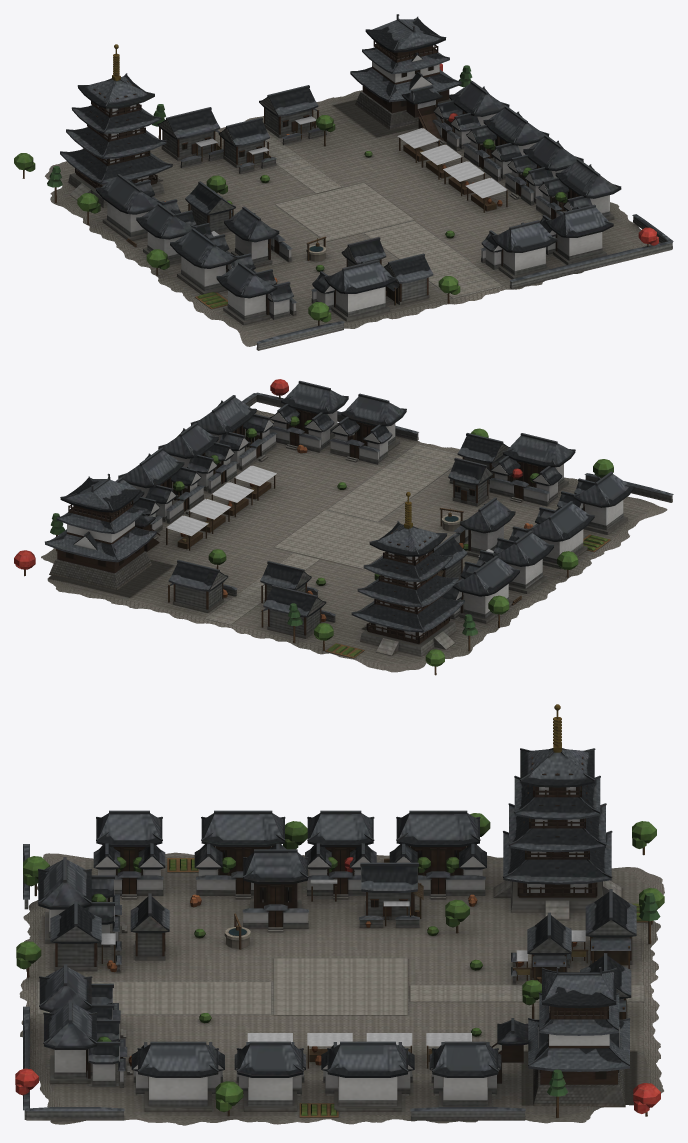
The model's file is kingdoms-town-medium-a-japan-deddf831.glb.
3 views of the same model, one above another, from view 1: azimuth 30°, elevation 25°; view 2: azimuth 150°, elevation 25°; view 3: azimuth 270°, elevation 25° (orthographic). The views are drawn at different scales.
Parts seen in each view (by area): view 1: LOD0; view 2: LOD0; view 3: LOD0.
Part boxes in pixels (x1=…): LOD0: x1=14, y1=14, x2=673, y2=350; LOD0: x1=14, y1=379, x2=673, y2=675; LOD0: x1=15, y1=704, x2=664, y2=1125.
Size of what is drawn, in the model's own units: 6.04 by 1.95 by 6.09.
3 materials, 3 textured.
